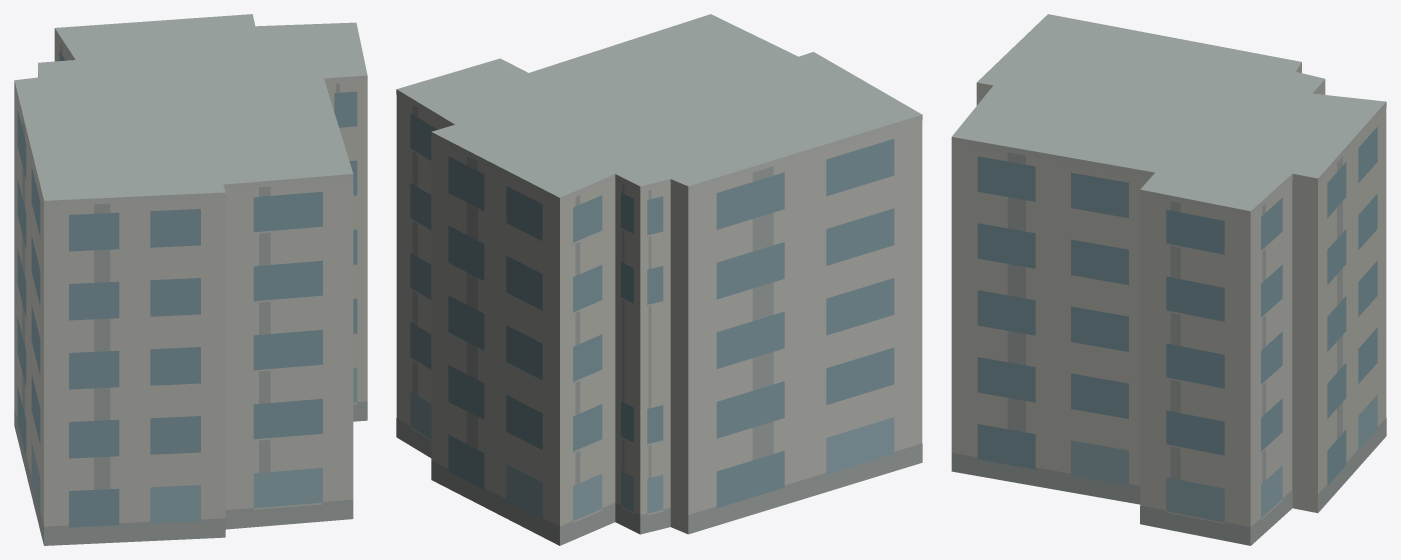
Rendered from survey-upis-32674870.glb.
3 views of the same model, side by side, from view 1: azimuth 30°, elevation 25°; view 2: azimuth 150°, elevation 25°; view 3: azimuth 270°, elevation 25° (orthographic). The views are drawn at different scales.
Parts seen in each view (by area): view 1: survey-upis-32674870.tmp; view 2: survey-upis-32674870.tmp; view 3: survey-upis-32674870.tmp.
Part boxes in pixels (x1=…): survey-upis-32674870.tmp: x1=14, y1=14, x2=367, y2=545; survey-upis-32674870.tmp: x1=396, y1=14, x2=922, y2=545; survey-upis-32674870.tmp: x1=951, y1=14, x2=1386, y2=545.
Bounding box in the file's own units: 18.15 × 14.35 × 16.91.
